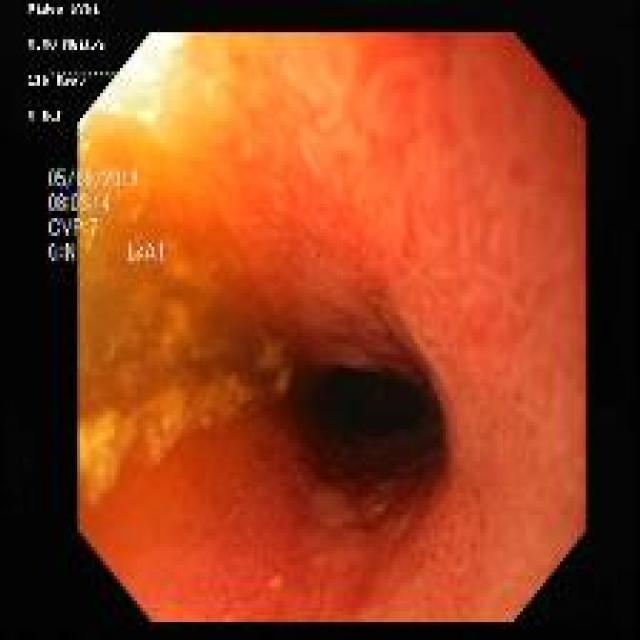ulcerative-colitis: (79, 33, 586, 621)
